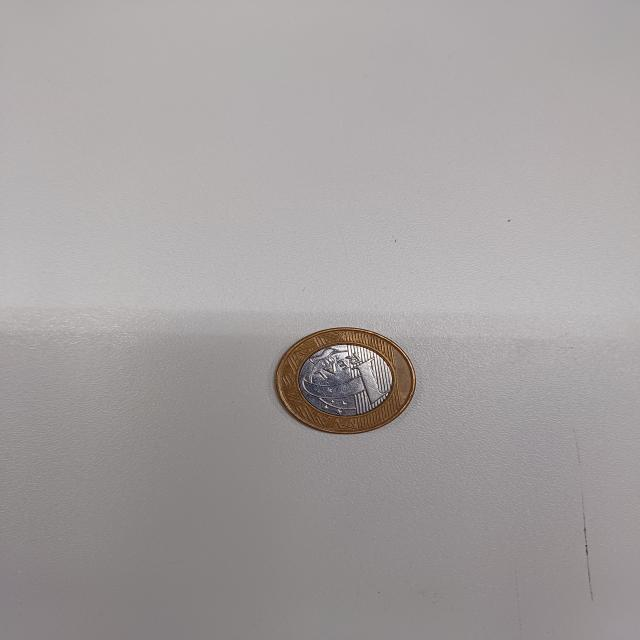1 real: (272, 324, 426, 435)
